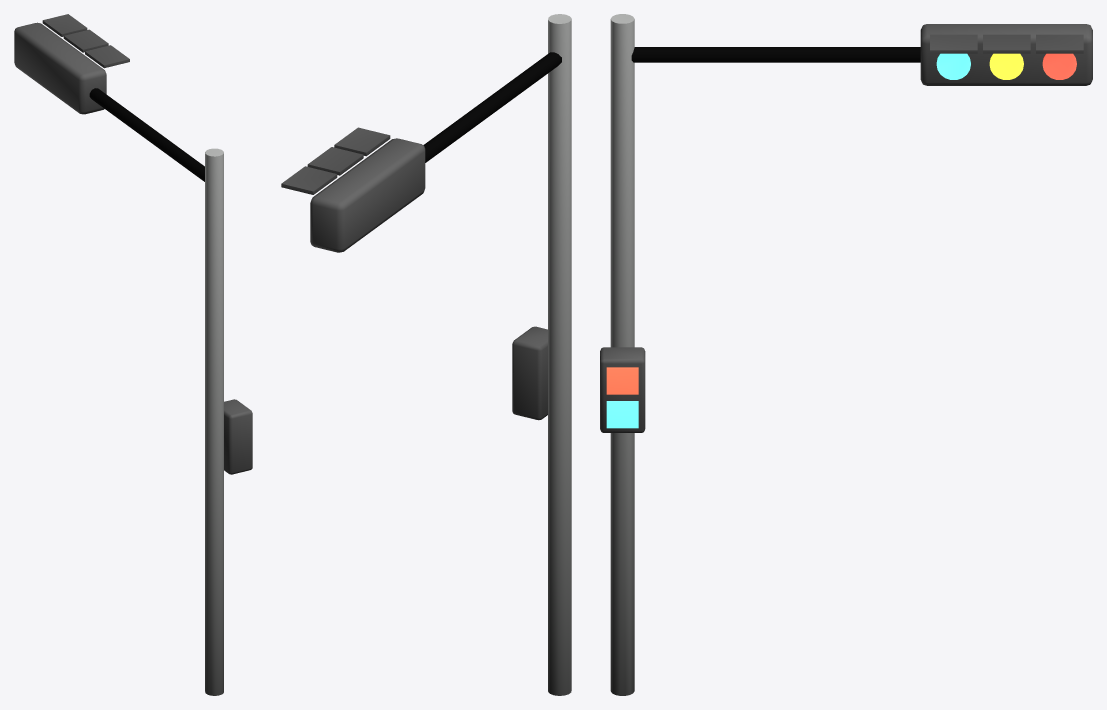
Rendered from signal.glb.
3 renders of one model, left to right at view 1: azimuth 30°, elevation 25°; view 2: azimuth 150°, elevation 25°; view 3: azimuth 270°, elevation 25°, orthographic. The views are drawn at different scales.
Visible parts, largest first — view 1: SignalMesh; view 2: SignalMesh; view 3: SignalMesh, Ped_R, Ped_G, Lamp_G, Lamp_Y, Lamp_R.
Boxes of the visible parts, bbox=[...] form: SignalMesh: bbox=[14, 14, 252, 695]; SignalMesh: bbox=[281, 14, 571, 695]; SignalMesh: bbox=[600, 14, 1092, 695]; Ped_R: bbox=[606, 367, 638, 394]; Ped_G: bbox=[606, 401, 638, 428]; Lamp_G: bbox=[936, 53, 970, 79]; Lamp_Y: bbox=[989, 53, 1023, 79]; Lamp_R: bbox=[1042, 53, 1076, 79].
Bounding box in the file's own units: 0.57 × 5.6 × 3.72.
